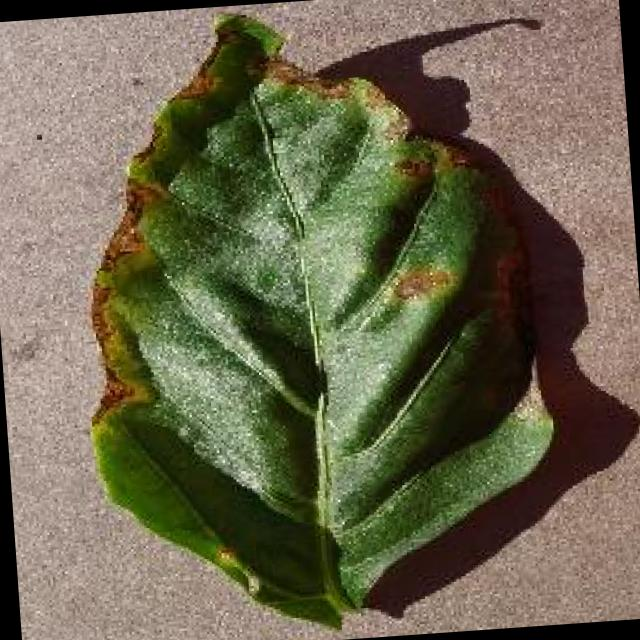Chilli_Bacterial_Spot: (58, 0, 573, 640), (373, 250, 467, 318), (206, 4, 290, 67), (386, 261, 454, 305), (170, 66, 220, 105), (120, 173, 164, 216), (391, 146, 436, 184)
